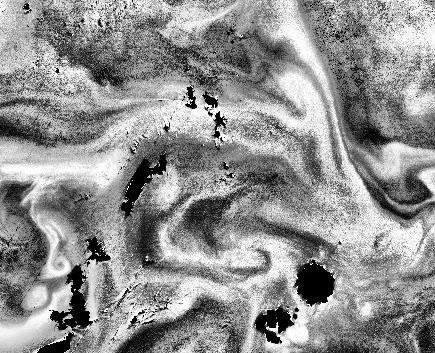CE: (44, 255, 74, 279)
